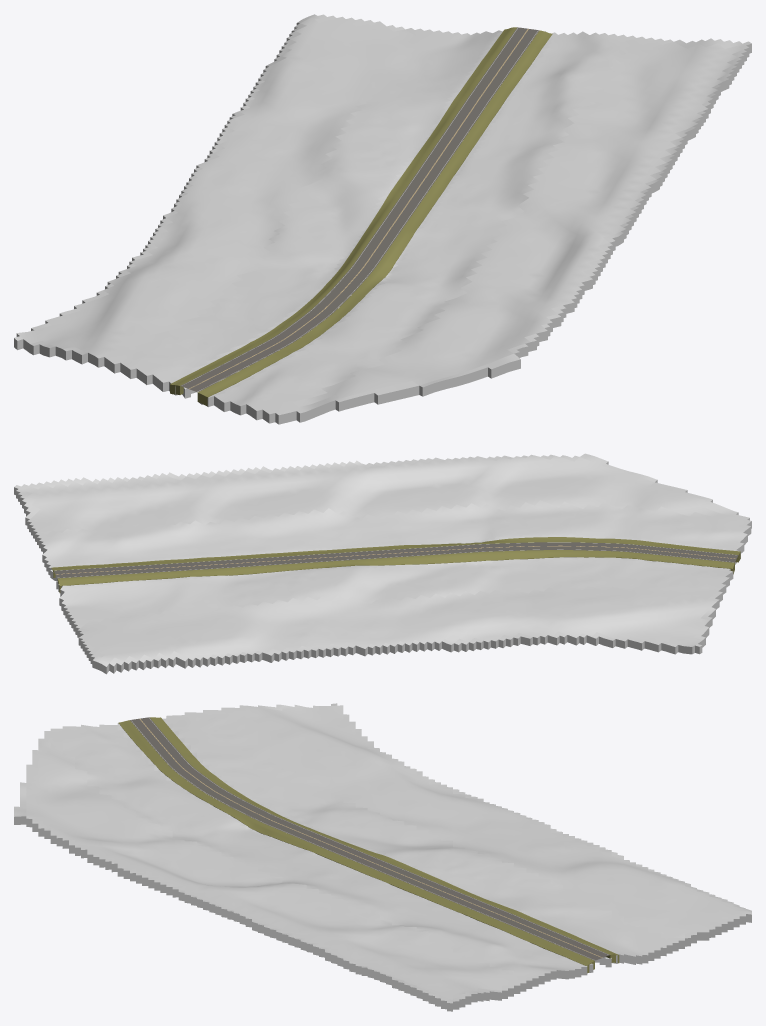
Rendered from conz_49.glb.
3 views of the same model, one above another, from view 1: azimuth 30°, elevation 25°; view 2: azimuth 150°, elevation 25°; view 3: azimuth 270°, elevation 25° (orthographic). The views are drawn at different scales.
Visible parts, largest first — view 1: terrain49, road49, verge49R, verge49L, paint_white49, paint_yellow49; view 2: terrain49, road49, verge49L, verge49R, paint_white49, paint_yellow49; view 3: terrain49, road49, verge49R, verge49L, paint_white49, paint_yellow49.
Part boxes in pixels (x1,y1,x2,y2): terrain49: [14, 14, 751, 424]; road49: [180, 27, 539, 392]; verge49R: [197, 30, 552, 406]; verge49L: [170, 27, 516, 394]; paint_white49: [182, 27, 538, 391]; paint_yellow49: [189, 28, 528, 388]; terrain49: [14, 453, 751, 674]; road49: [54, 542, 738, 578]; verge49L: [57, 550, 734, 592]; verge49R: [51, 537, 740, 577]; paint_white49: [55, 542, 736, 577]; paint_yellow49: [56, 545, 735, 574]; terrain49: [14, 703, 751, 1011]; road49: [130, 717, 609, 960]; verge49R: [118, 720, 594, 973]; verge49L: [150, 717, 619, 963]; paint_white49: [131, 717, 608, 959]; paint_yellow49: [140, 719, 602, 957].
Bounding box in the file's own units: 270 × 21.01 × 242.
